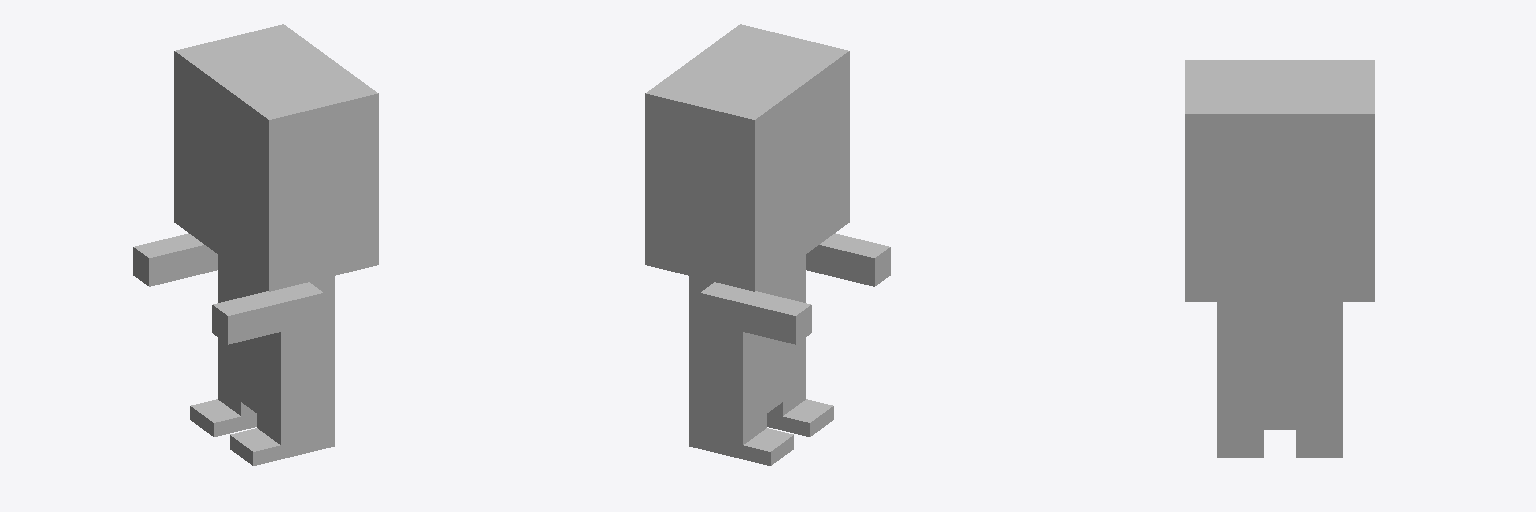
Rendered from ninja.obj.
3 views of the same model, side by side, from view 1: azimuth 30°, elevation 25°; view 2: azimuth 150°, elevation 25°; view 3: azimuth 270°, elevation 25° (orthographic).
Parts seen in each view (by area): view 1: ninja; view 2: ninja; view 3: ninja.
Boxes of the visible parts, <box> form: ninja: <box>133,24,378,465</box>; ninja: <box>645,24,890,465</box>; ninja: <box>1185,60,1374,457</box>.
Bounding box in the file's own units: 11 × 25 × 12.